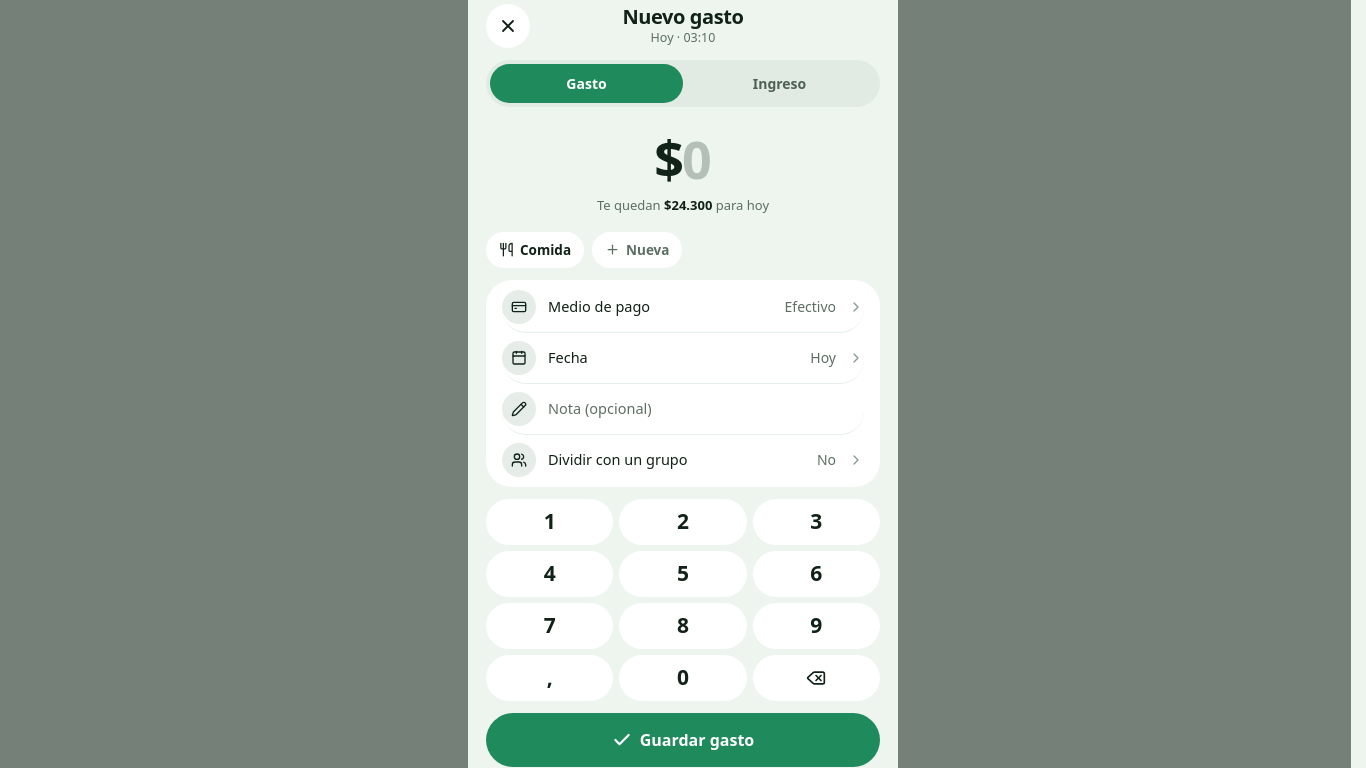
it: MovementSheet: screen 19 (manual load) › saving an expense shows screen 20 with what is left for today (no toast, sheet stays)
Type "4800" into the field named "Monto". click: coordinates (697, 158)
box: x1=682 y1=123 x2=712 y2=194
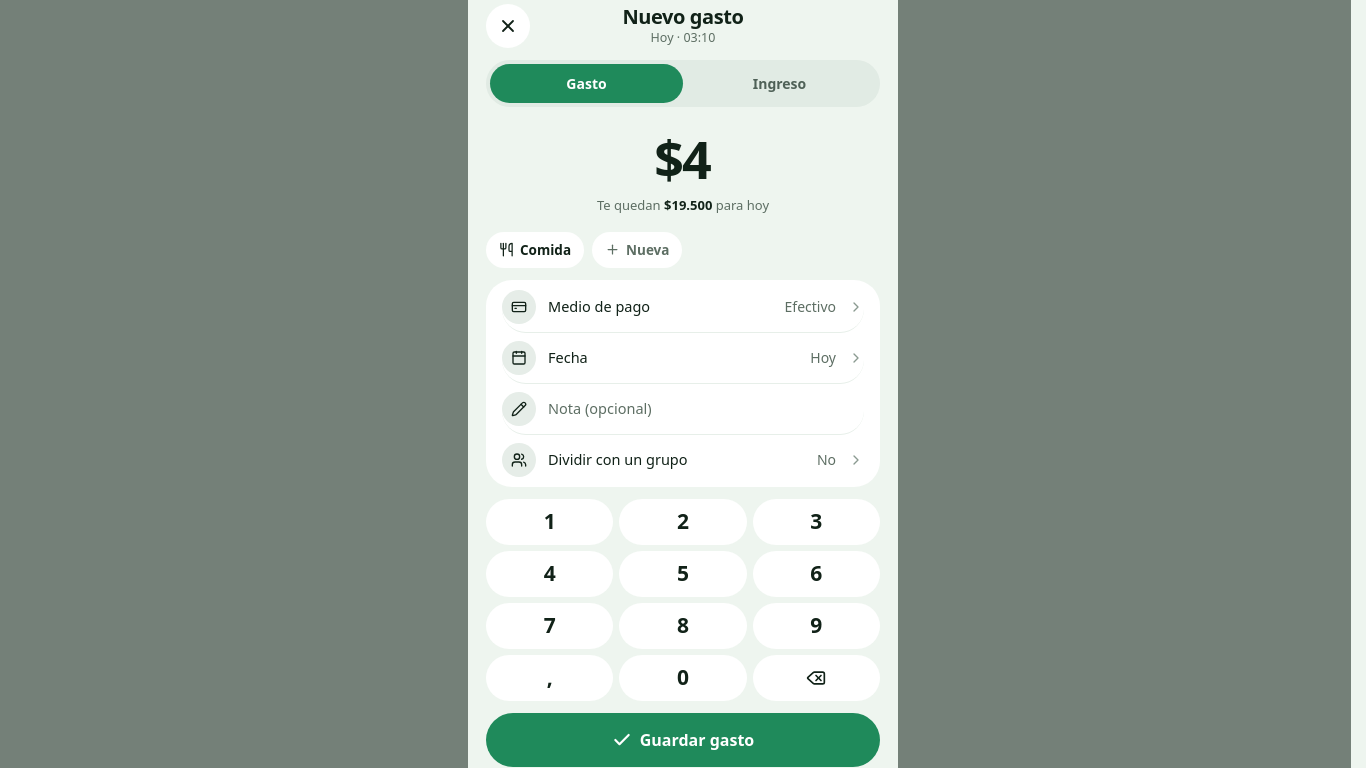
Click the button "Comida". click: coordinates (535, 250)
box: x1=486 y1=232 x2=584 y2=268
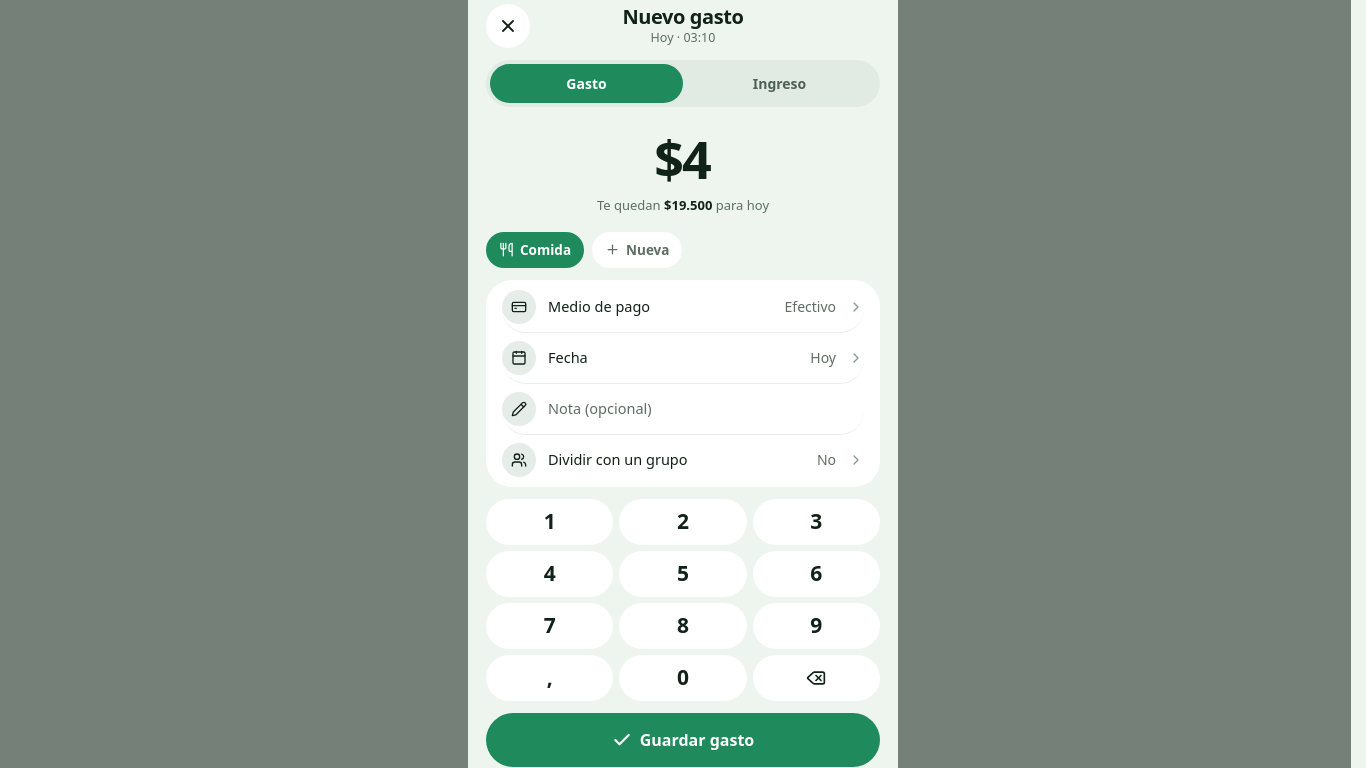
Click the button "Guardar gasto". click: coordinates (683, 740)
box: x1=486 y1=713 x2=880 y2=767
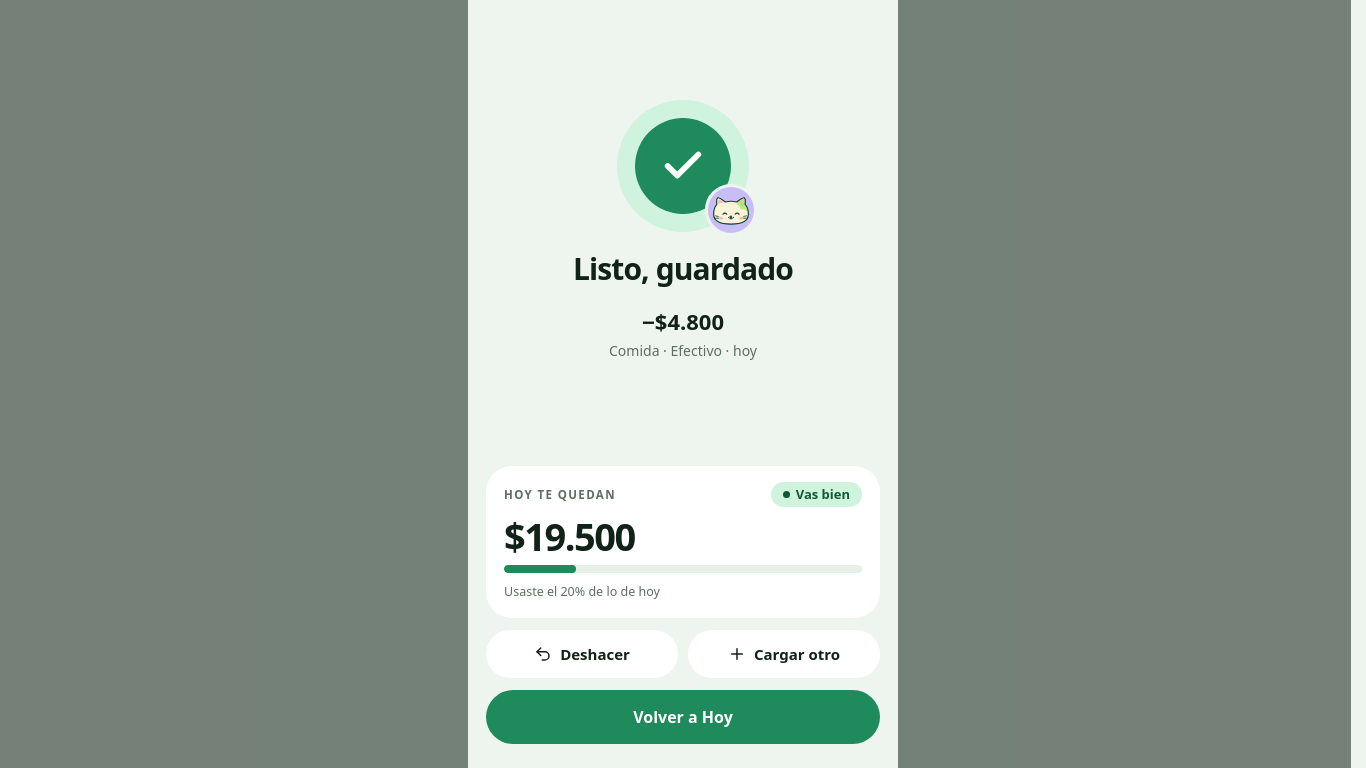
Now the text "Listo, guardado" is shown, box x1=573 y1=246 x2=793 y2=291
Now the text "Hoy te quedan" is shown, box x1=504 y1=486 x2=616 y2=503
Now the text "Vas bien" is shown, box x1=771 y1=482 x2=862 y2=507
